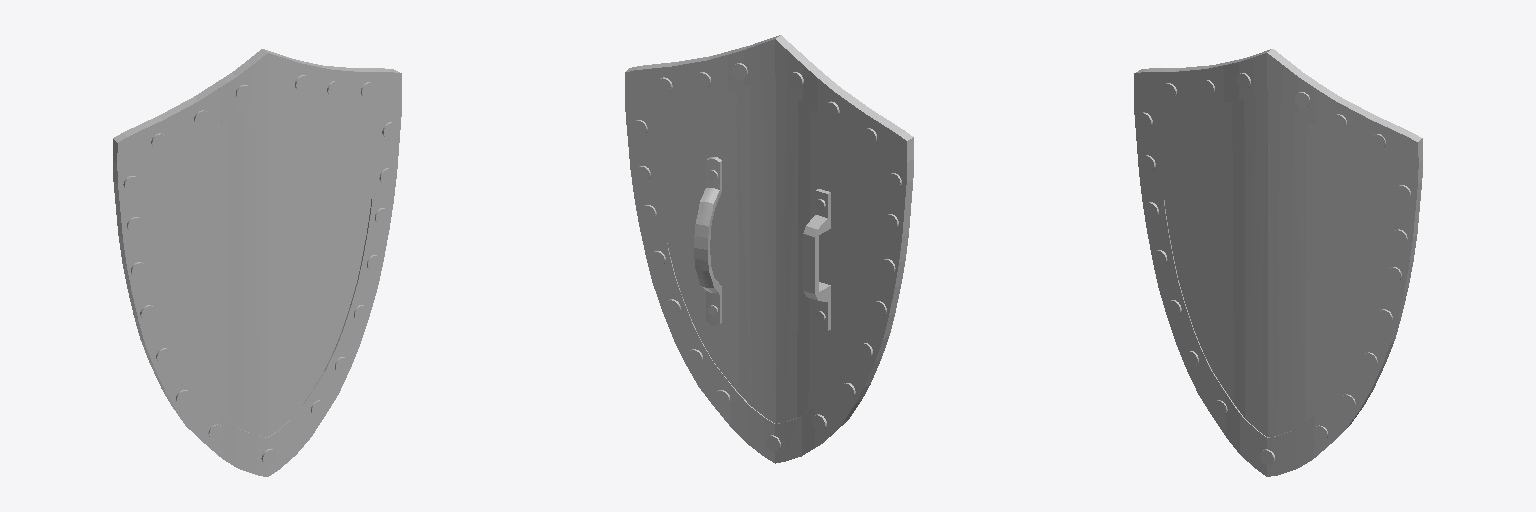
Rendered from Shield_1.obj.
3 renders of one model, left to right at view 1: azimuth 30°, elevation 25°; view 2: azimuth 150°, elevation 25°; view 3: azimuth 330°, elevation 25°, orthographic.
Visible parts, largest first — view 1: Shield_1_UV_Shield_1_UV.001; view 2: Shield_1_UV_Shield_1_UV.001; view 3: Shield_1_UV_Shield_1_UV.001.
Boxes of the visible parts, x1,y1,x2,y2 form: Shield_1_UV_Shield_1_UV.001: [113, 49, 401, 476]; Shield_1_UV_Shield_1_UV.001: [625, 35, 913, 463]; Shield_1_UV_Shield_1_UV.001: [1134, 49, 1422, 476].
Size of the model in its own units: 1.24 by 1.77 by 0.2056.